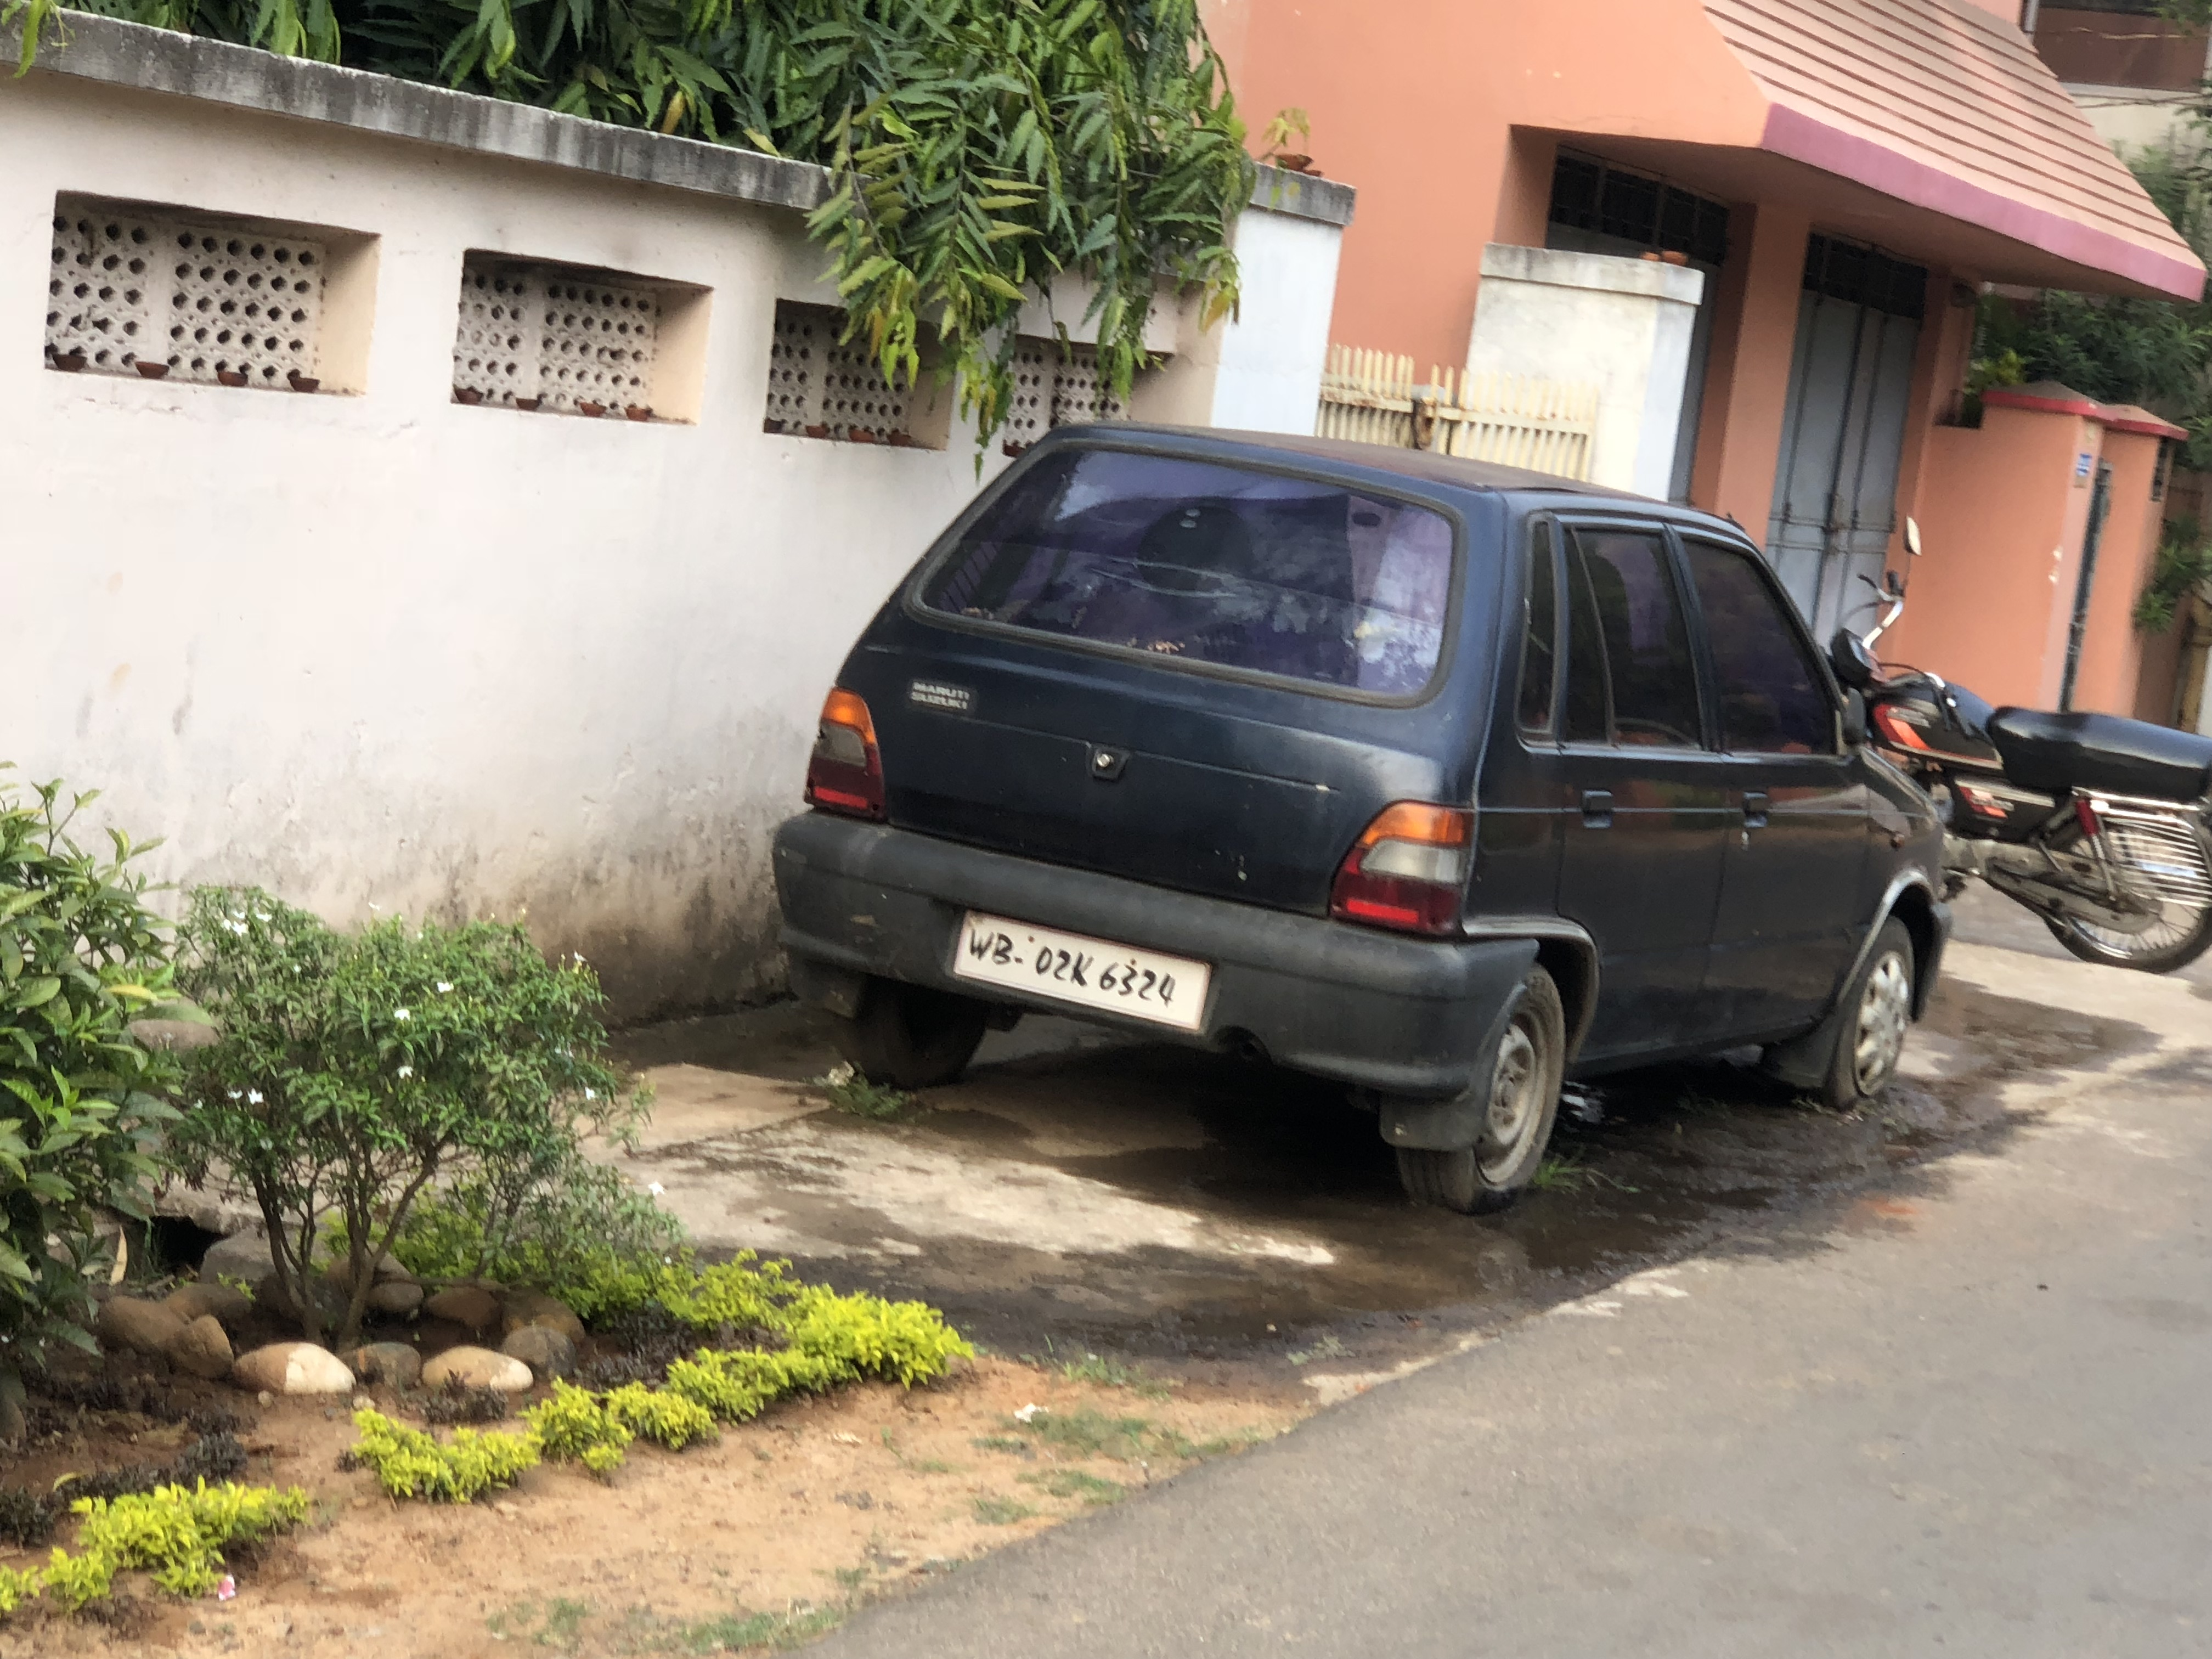licenseplate: (943, 897, 1235, 1036)
